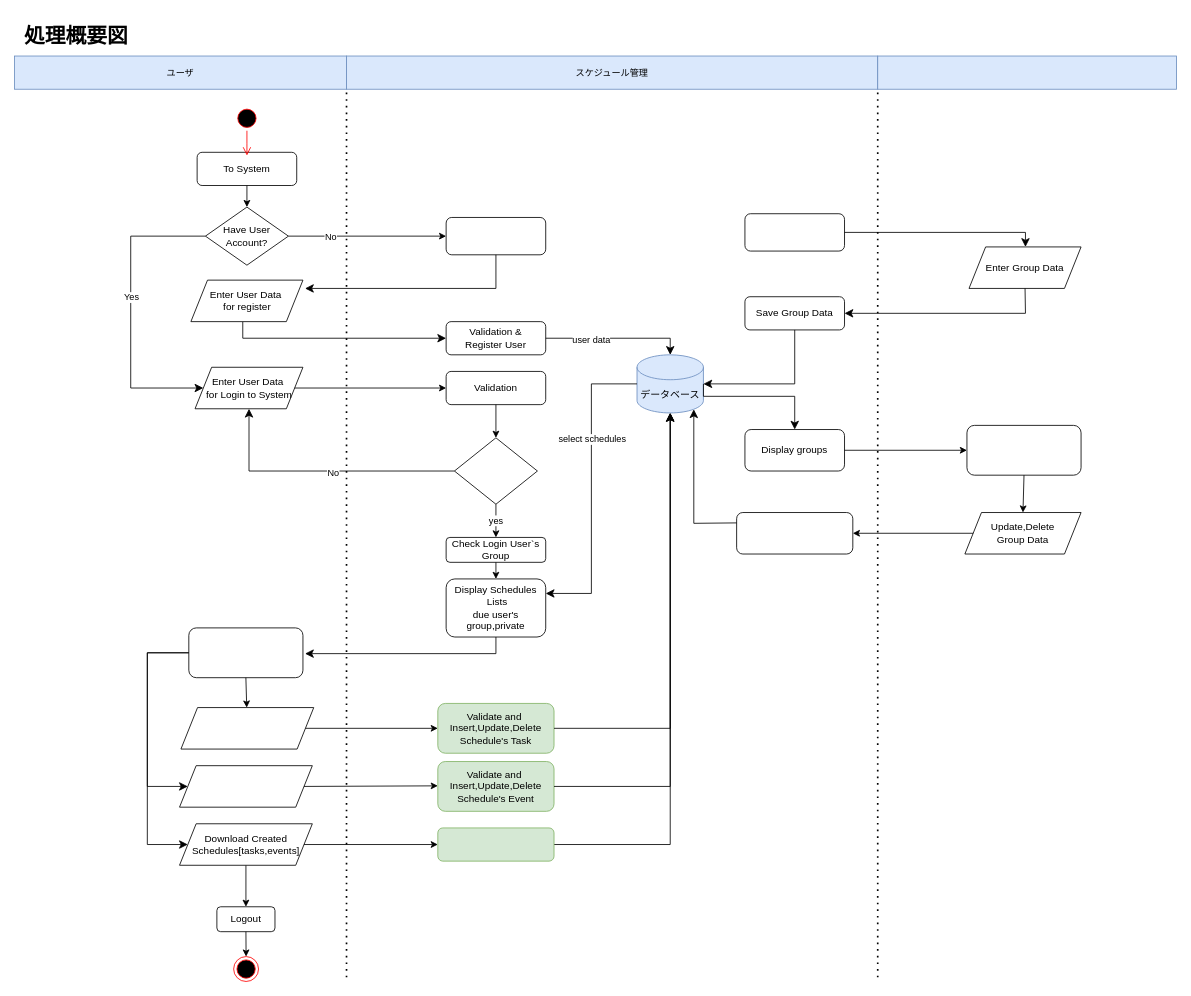
The diagram is 1191 pixels wide and 996 high, and some of its shapes have lost their labels. The box of each missing label's shape, as (x1, y1, x2, y2) in pixels:
Create/Update/Delete Schedule's Event: (179, 765, 312, 807)
Create/Update/Delete Schedule's Task: (180, 707, 314, 749)
Download Schedules: (437, 827, 554, 861)
Group Lists: (966, 425, 1081, 475)
Group Register: (744, 213, 845, 251)
Schedule Lists: (188, 627, 303, 678)
Update,Delete Group: (736, 512, 853, 554)
User Register: (445, 217, 546, 255)
Validate User Data?: (454, 437, 537, 504)
グループ: (877, 55, 1177, 89)
